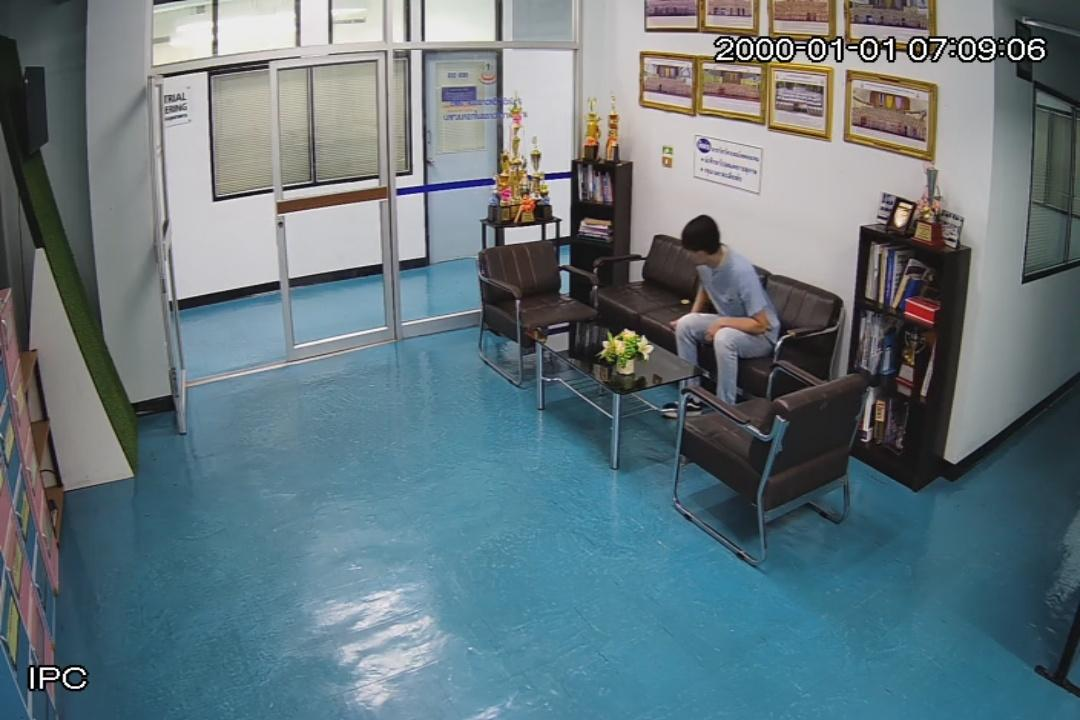normal: (666, 214, 788, 428)
